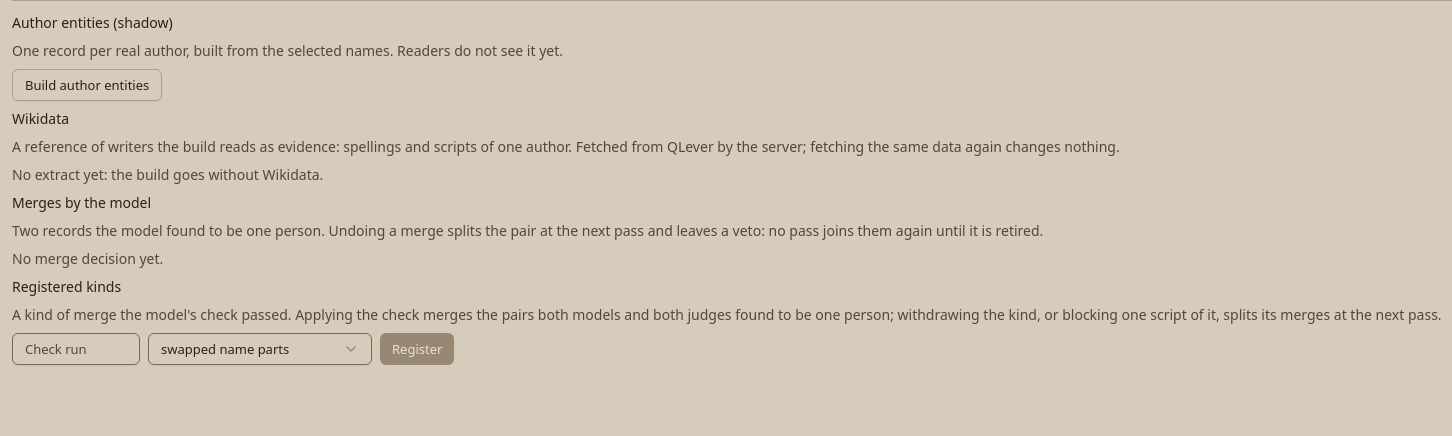
Test: AuthorEntityBlock › says when a pass is already running
Step 1. Click the button "Build author entities" → (87, 85), box [12, 69, 162, 101]
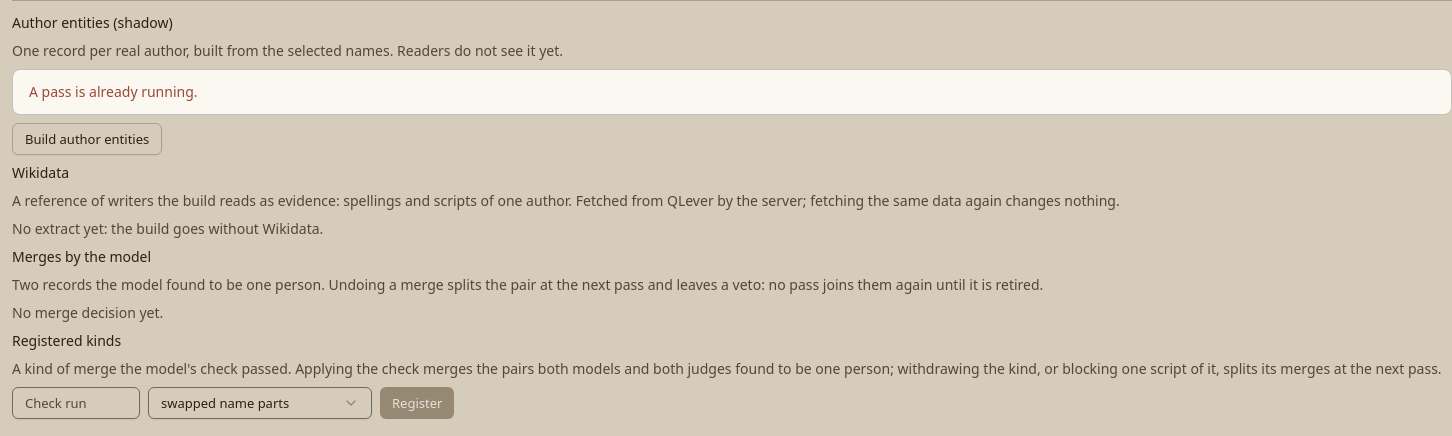
Expected: the text "A pass is already running." is shown, [29, 82, 198, 101]
